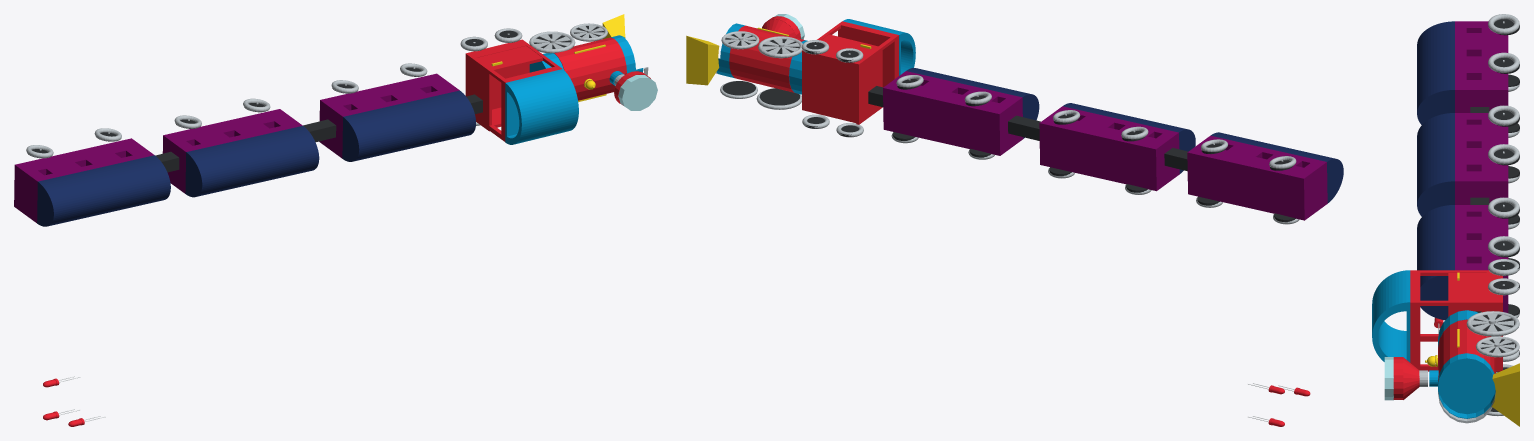
Rendered from tinker.obj.
3 renders of one model, left to right at view 1: azimuth 30°, elevation 25°; view 2: azimuth 150°, elevation 25°; view 3: azimuth 270°, elevation 25°, orthographic. The views are drawn at different scales.
Visible parts, largest first — view 1: group_0_1650274, group_0_8192102, group_0_15277357, group_0_40919, group_0_12568524, group_0_2829873, group_0_11593967, group_0_16768282; view 2: group_0_8192102, group_0_15277357, group_0_12568524, group_0_2829873, group_0_1650274, group_0_40919, group_0_16768282; view 3: group_0_8192102, group_0_1650274, group_0_40919, group_0_15277357, group_0_12568524, group_0_2829873, group_0_16768282, group_0_11593967.
Part boxes in pixels (bbox=[...]): group_0_1650274: bbox=[37, 90, 475, 226]; group_0_8192102: bbox=[14, 73, 459, 222]; group_0_15277357: bbox=[43, 37, 650, 426]; group_0_40919: bbox=[505, 35, 643, 144]; group_0_12568524: bbox=[26, 23, 648, 158]; group_0_2829873: bbox=[27, 26, 604, 172]; group_0_11593967: bbox=[618, 75, 657, 110]; group_0_16768282: bbox=[491, 14, 625, 101]; group_0_8192102: bbox=[883, 71, 1327, 220]; group_0_15277357: bbox=[729, 16, 1310, 426]; group_0_12568524: bbox=[715, 31, 1299, 224]; group_0_2829873: bbox=[722, 33, 1295, 222]; group_0_1650274: bbox=[906, 68, 1343, 203]; group_0_40919: bbox=[716, 19, 915, 94]; group_0_16768282: bbox=[686, 27, 871, 85]; group_0_8192102: bbox=[1455, 21, 1508, 312]; group_0_1650274: bbox=[1417, 21, 1454, 320]; group_0_40919: bbox=[1372, 270, 1495, 418]; group_0_15277357: bbox=[1393, 270, 1502, 399]; group_0_12568524: bbox=[1419, 14, 1519, 423]; group_0_2829873: bbox=[1470, 19, 1519, 411]; group_0_16768282: bbox=[1425, 272, 1519, 426]; group_0_11593967: bbox=[1384, 357, 1393, 400].
Bounding box in the file's own units: 216 × 91 × 38.8.
